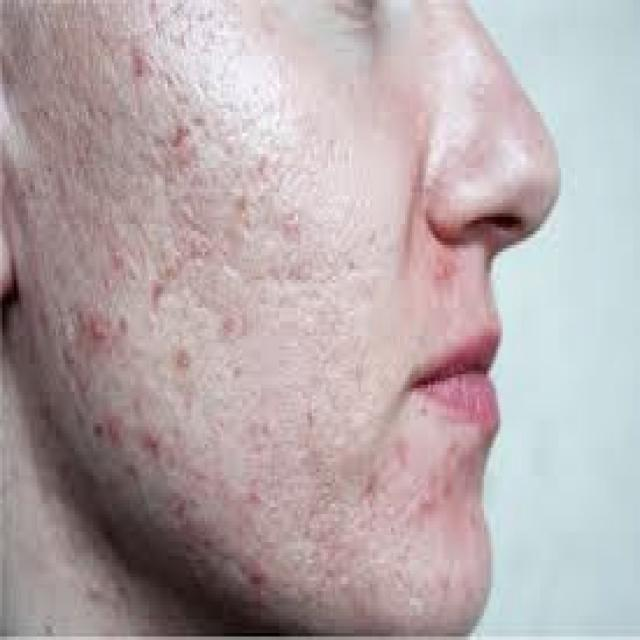Acne: (83, 310, 115, 354), (100, 402, 128, 452), (242, 556, 274, 596), (215, 303, 244, 342), (166, 489, 192, 531), (414, 477, 440, 519), (168, 119, 195, 159), (140, 421, 168, 459), (243, 473, 268, 515), (431, 246, 456, 286), (106, 238, 130, 276), (280, 203, 303, 240), (132, 34, 148, 87), (436, 468, 458, 506), (172, 339, 194, 375), (85, 574, 106, 605)
